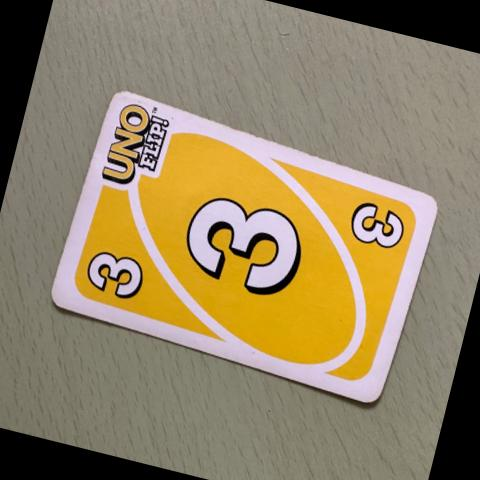lyellow-3: (61, 232, 166, 320)
